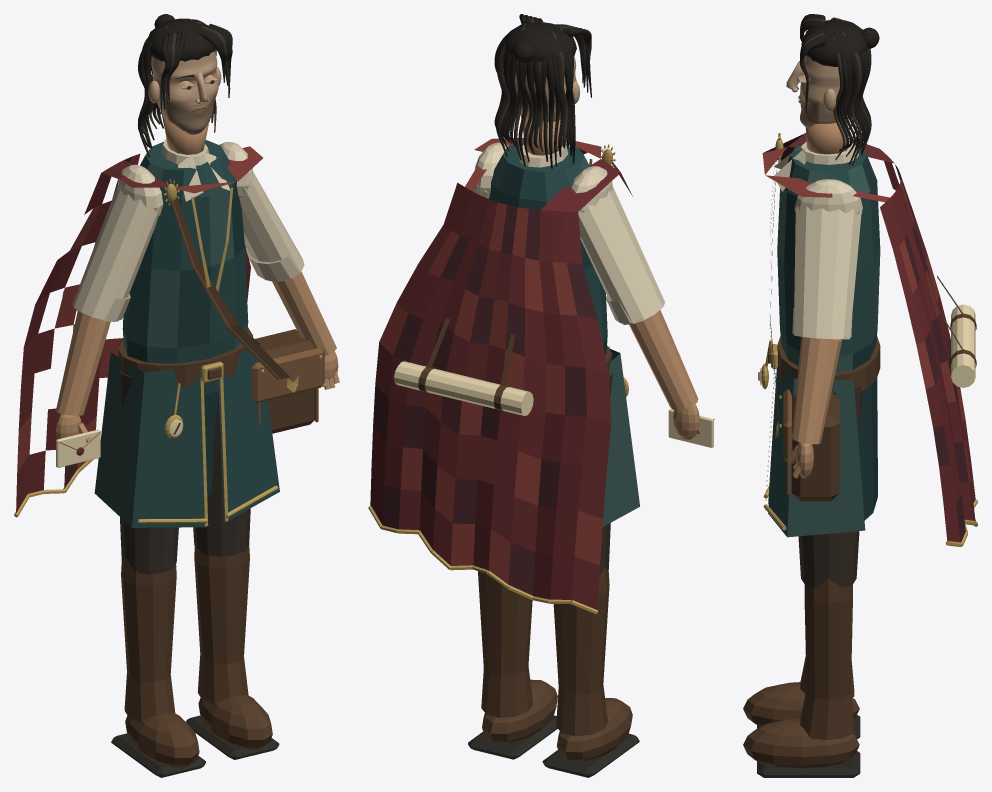
Rendered from courier.glb.
3 views of the same model, side by side, from view 1: azimuth 30°, elevation 25°; view 2: azimuth 150°, elevation 25°; view 3: azimuth 270°, elevation 25° (orthographic). The views are drawn at different scales.
Visible parts, largest first — view 1: Waistcoat, Split_coat_R, Cloak_folds, Boot_shaft_R, Boot_shaft_L, Split_coat_L, Linen_sleeve_R, Face, Forearm_R, Linen_sleeve_L, Trouser_thigh_L, Boot_toe_L (+17 smaller); view 2: Cloak_folds, Boot_shaft_R, Boot_shaft_L, Linen_sleeve_R, Waistcoat, Split_coat_R, Map_roll, Forearm_R, Boot_toe_R, Boot_toe_L, Hair_crown, Boot_sole_R (+7 smaller); view 3: Cloak_folds, Waistcoat, Linen_sleeve_L, Boot_shaft_L, Split_coat_L, Boot_toe_L, Forearm_L, Trouser_thigh_L, Messenger_satchel, Back_coat, Boot_toe_R, Face (+12 smaller).
Part boxes in pixels (bbox=[...]): Waistcoat: bbox=[122, 140, 248, 394]; Split_coat_R: bbox=[94, 352, 205, 527]; Cloak_folds: bbox=[16, 146, 262, 513]; Boot_shaft_R: bbox=[121, 557, 176, 722]; Boot_shaft_L: bbox=[194, 543, 249, 704]; Split_coat_L: bbox=[218, 338, 279, 522]; Linen_sleeve_R: bbox=[72, 185, 160, 321]; Face: bbox=[151, 50, 218, 134]; Forearm_R: bbox=[55, 310, 110, 415]; Linen_sleeve_L: bbox=[239, 172, 304, 281]; Trouser_thigh_L: bbox=[193, 392, 250, 556]; Boot_toe_L: bbox=[198, 694, 272, 750]; Cloak_folds: bbox=[370, 137, 632, 609]; Boot_shaft_R: bbox=[553, 567, 609, 735]; Boot_shaft_L: bbox=[478, 571, 533, 717]; Linen_sleeve_R: bbox=[578, 185, 664, 324]; Waistcoat: bbox=[489, 140, 607, 354]; Split_coat_R: bbox=[602, 348, 639, 526]; Map_roll: bbox=[394, 361, 533, 415]; Forearm_R: bbox=[629, 310, 698, 410]; Boot_toe_R: bbox=[557, 698, 632, 761]; Boot_toe_L: bbox=[482, 679, 557, 742]; Hair_crown: bbox=[504, 22, 576, 61]; Boot_sole_R: bbox=[542, 733, 639, 777]; Cloak_folds: bbox=[762, 133, 975, 542]; Waistcoat: bbox=[777, 141, 880, 372]; Linen_sleeve_L: bbox=[794, 206, 861, 339]; Boot_shaft_L: bbox=[800, 578, 854, 739]; Split_coat_L: bbox=[768, 353, 865, 537]; Boot_toe_L: bbox=[743, 718, 859, 768]; Forearm_L: bbox=[792, 337, 841, 444]; Trouser_thigh_L: bbox=[798, 386, 862, 588]; Messenger_satchel: bbox=[791, 392, 839, 501]; Back_coat: bbox=[857, 378, 877, 520]; Boot_toe_R: bbox=[743, 682, 859, 726]; Face: bbox=[799, 55, 839, 127].
Size of the model in its own units: 0.7395 by 1.75 by 0.5149.
